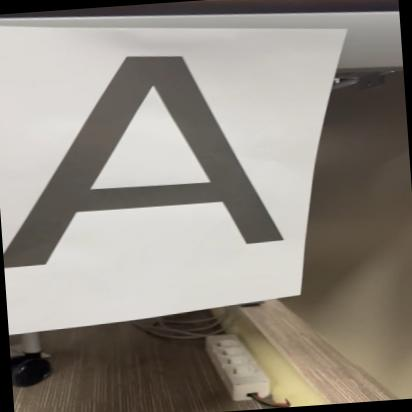seat: (0, 38, 290, 269)
